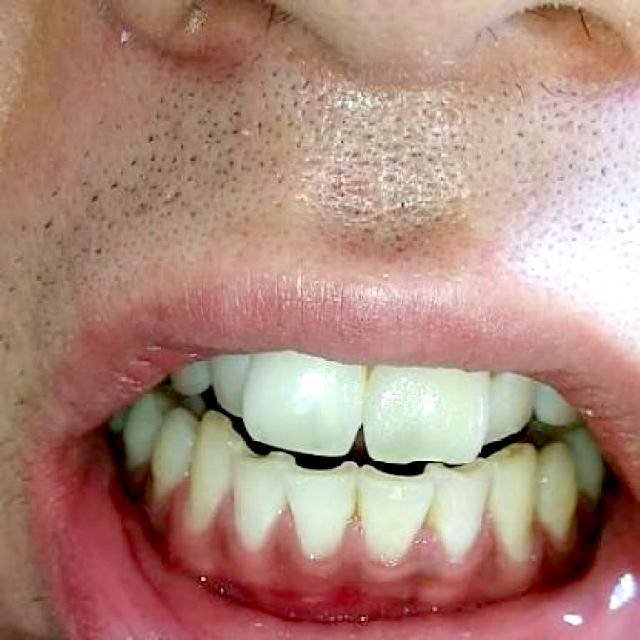Plaque: (358, 524, 422, 566), (432, 517, 488, 560)
